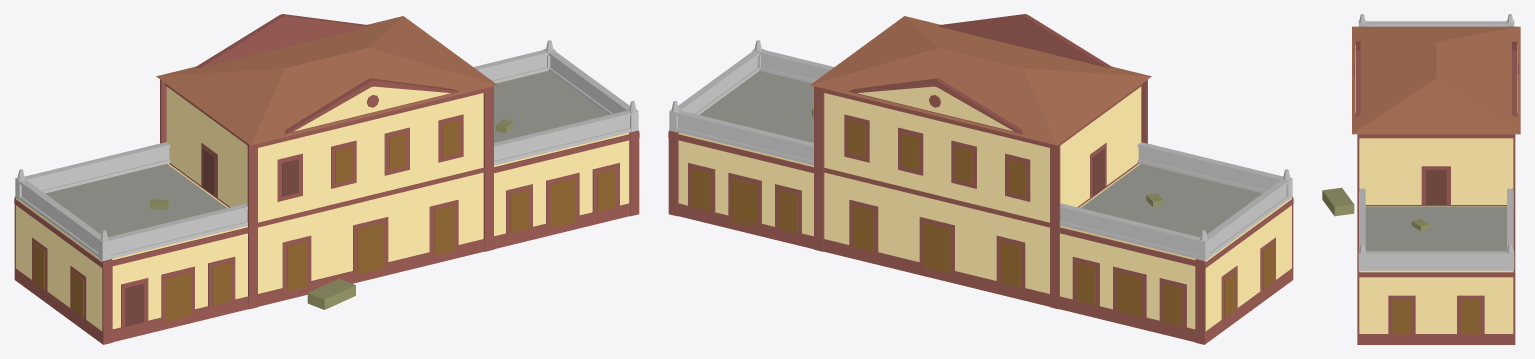
Rendered from SM_EdificioViajerosSagunto_v0_Abandonada_LOD1.fbx.
3 renders of one model, left to right at view 1: azimuth 30°, elevation 25°; view 2: azimuth 150°, elevation 25°; view 3: azimuth 270°, elevation 25°, orthographic. The views are drawn at different scales.
Visible parts, largest first — view 1: SM_edificio_viajeros_sagunto_v0_LOD1; view 2: SM_edificio_viajeros_sagunto_v0_LOD1; view 3: SM_edificio_viajeros_sagunto_v0_LOD1.
Part boxes in pixels (x1,y1,x2,y2): SM_edificio_viajeros_sagunto_v0_LOD1: (14,14,639,344); SM_edificio_viajeros_sagunto_v0_LOD1: (668,14,1293,344); SM_edificio_viajeros_sagunto_v0_LOD1: (1322,14,1520,344).
Bounding box in the file's own units: 32.12 × 11.4 × 11.53.
